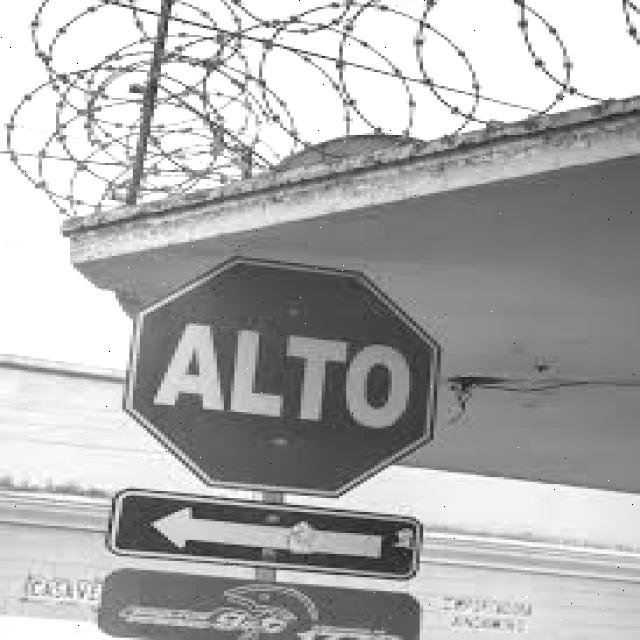Stop-sign: (113, 240, 464, 505)
